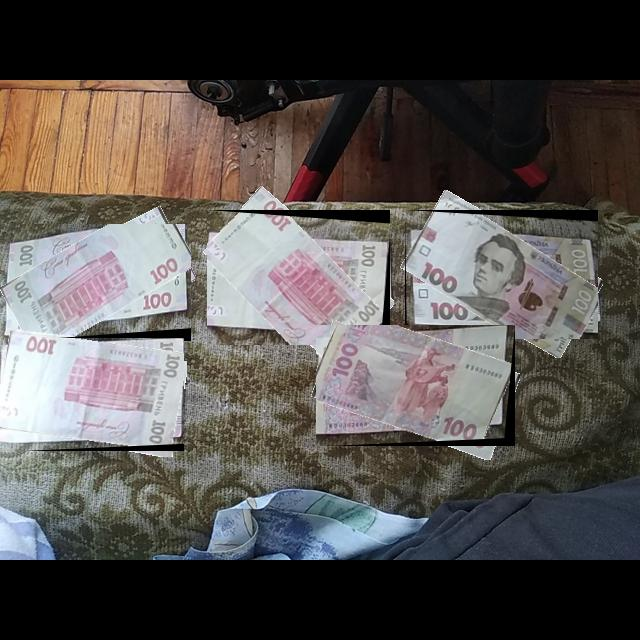100uah: (405, 210, 599, 340), (207, 210, 391, 346), (316, 325, 516, 447), (4, 224, 192, 342), (0, 338, 185, 452)
